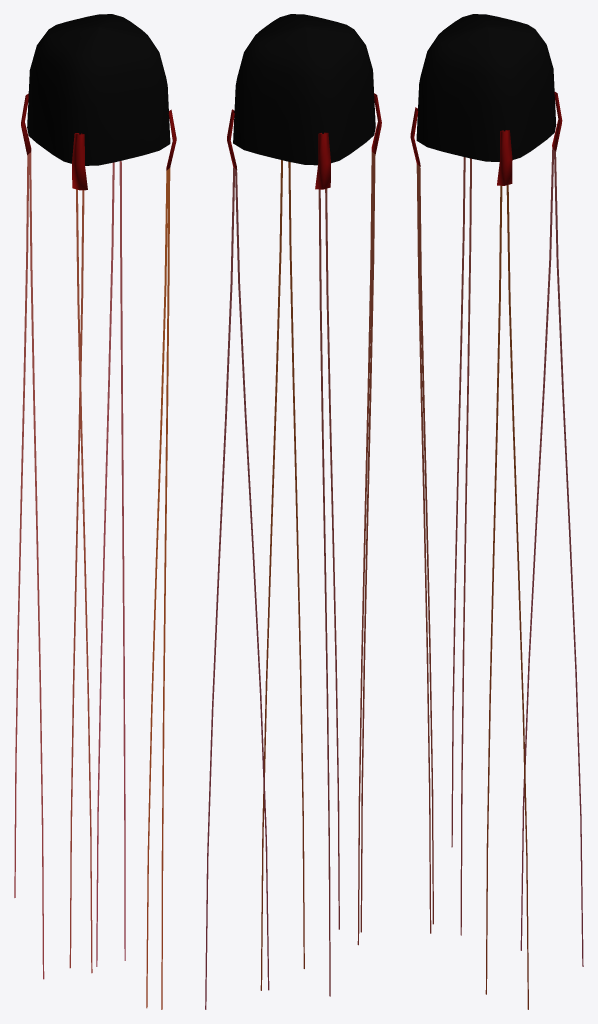
The model's file is box_jelly_lo.glb.
The picture shows the model from 3 angles, left to right: view 1: azimuth 30°, elevation 25°; view 2: azimuth 150°, elevation 25°; view 3: azimuth 330°, elevation 25°; orthographic projection. The views are drawn at different scales.
Visible parts, largest first — view 1: box_jelly_lo; view 2: box_jelly_lo; view 3: box_jelly_lo.
Boxes of the visible parts, x1,y1,x2,y2 form: box_jelly_lo: (14, 14, 176, 1009); box_jelly_lo: (205, 14, 381, 1009); box_jelly_lo: (410, 14, 583, 1009).
Bounding box in the file's own units: 0.297 × 2.27 × 0.2814.
